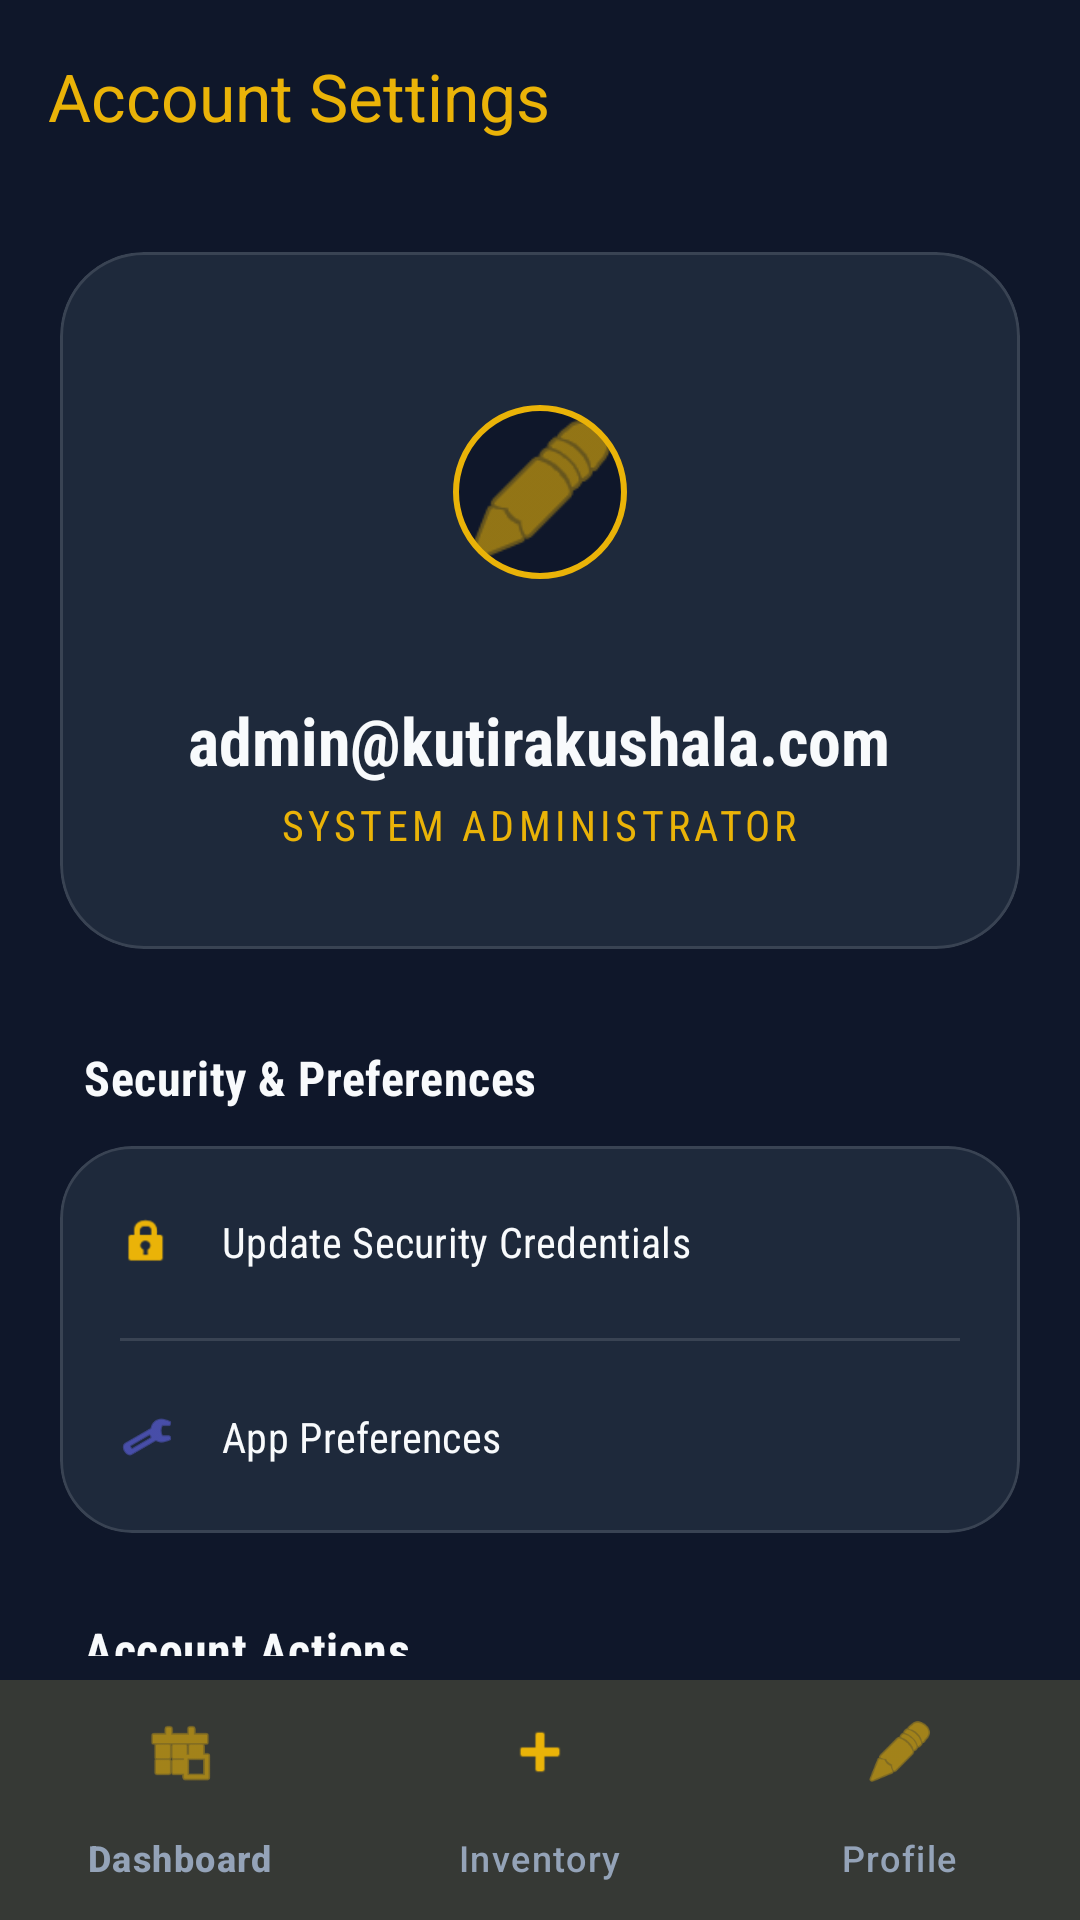

Icon click points for this 1080×1920 phone screenshot, format (x,y):
edit: (540,492)
